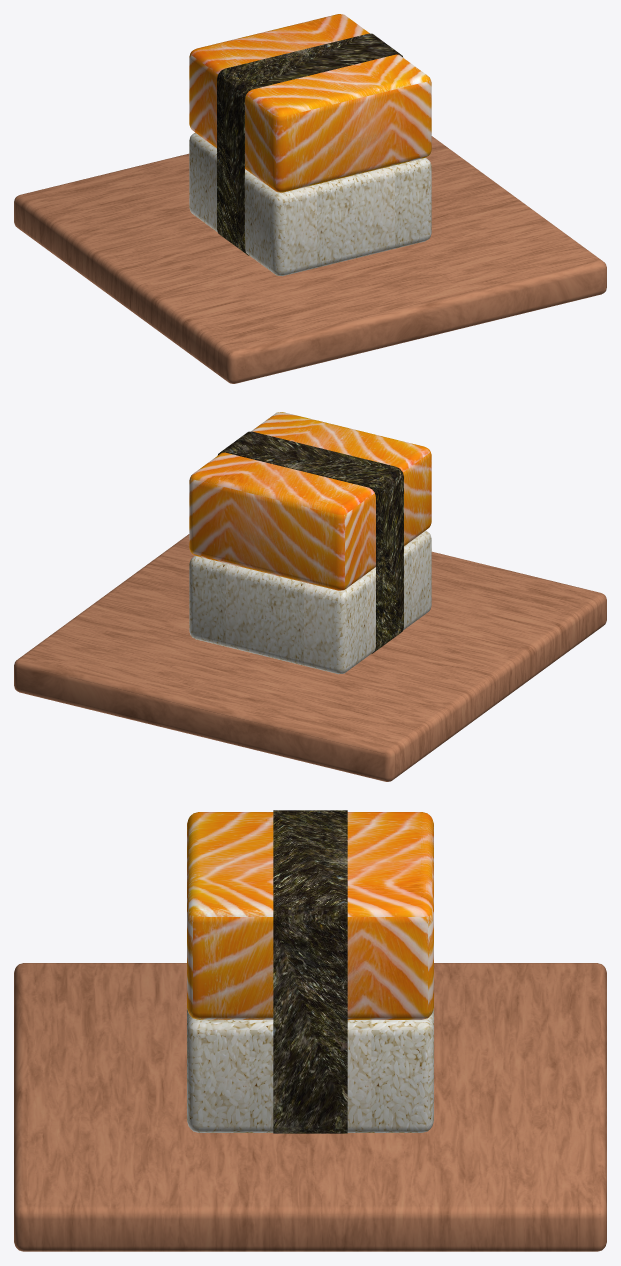
The model's file is sushi.fbx.
3 views of the same model, one above another, from view 1: azimuth 30°, elevation 25°; view 2: azimuth 150°, elevation 25°; view 3: azimuth 270°, elevation 25° (orthographic). The views are drawn at different scales.
Visible parts, largest first — view 1: wooden board, salmon, rice, nuri; view 2: wooden board, salmon, rice, nuri; view 3: wooden board, salmon, nuri, rice.
Boxes of the visible parts, x1=… form: wooden board: x1=14, y1=136, x2=606, y2=383; salmon: x1=189, y1=14, x2=431, y2=192; rice: x1=189, y1=132, x2=431, y2=276; nuri: x1=217, y1=33, x2=403, y2=255; wooden board: x1=14, y1=534, x2=606, y2=781; salmon: x1=189, y1=412, x2=431, y2=590; rice: x1=189, y1=530, x2=431, y2=674; nuri: x1=217, y1=431, x2=403, y2=653; wooden board: x1=14, y1=963, x2=606, y2=1251; salmon: x1=187, y1=812, x2=433, y2=1019; nuri: x1=273, y1=810, x2=347, y2=1133; rice: x1=187, y1=1008, x2=433, y2=1132.
Size of the model in its own units: 480 by 242 by 480.
Materials: 4 (4 with a texture image).
